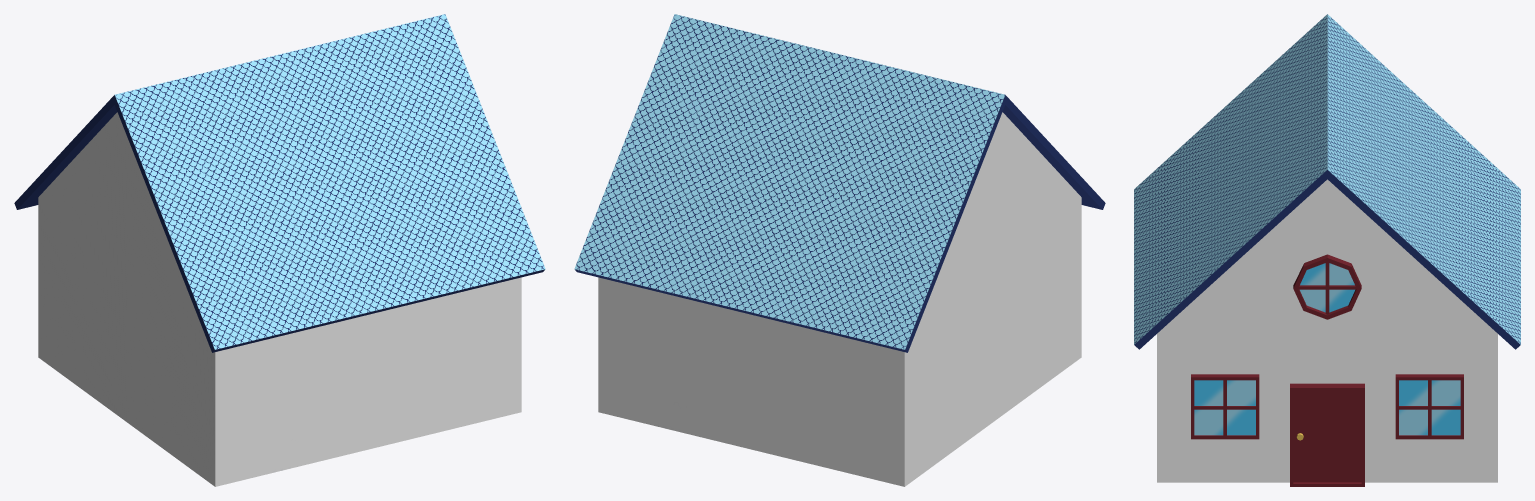
File: house_player.fbx
3 views of the same model, side by side, from view 1: azimuth 30°, elevation 25°; view 2: azimuth 150°, elevation 25°; view 3: azimuth 270°, elevation 25° (orthographic). The views are drawn at different scales.
Parts seen in each view (by area): view 1: house_player; view 2: house_player; view 3: house_player, house_windows, door_player.
Part boxes in pixels (x1,y1,x2,y2): house_player: [14, 14, 545, 486]; house_player: [574, 14, 1105, 486]; house_player: [1134, 14, 1520, 482]; house_windows: [1191, 254, 1463, 486]; door_player: [1293, 391, 1361, 482].
Size of the model in its own units: 1080 by 1031 by 1134.
2 materials, 2 textured.
